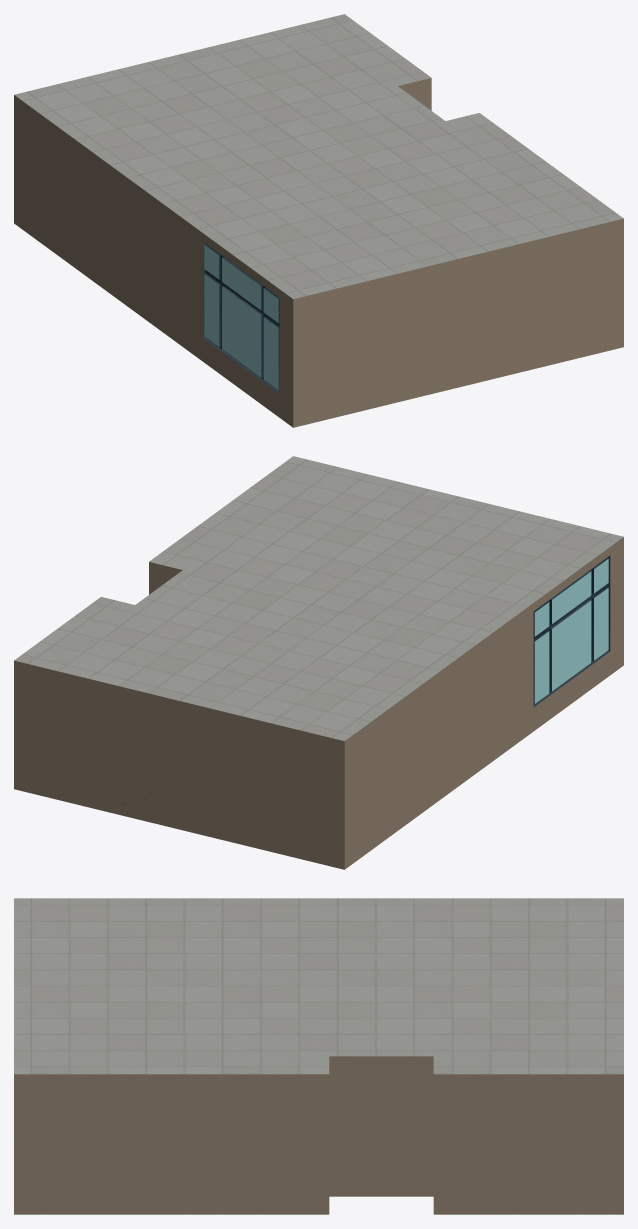
File: Aula mapeada.fbx
The picture shows the model from 3 angles, top to bottom: view 1: azimuth 30°, elevation 25°; view 2: azimuth 150°, elevation 25°; view 3: azimuth 270°, elevation 25°; orthographic projection. The views are drawn at different scales.
Parts seen in each view (by area): view 1: techo, Paredes, ventana; view 2: techo, Paredes, ventana; view 3: techo, Paredes.
Part boxes in pixels (x1,y1,x2,y2): techo: (14,14,623,298); Paredes: (14,78,623,427); ventana: (203,242,279,393); techo: (14,456,623,740); Paredes: (14,537,623,869); ventana: (533,555,610,707); techo: (14,898,623,1074); Paredes: (14,1056,623,1214).
Size of the model in its own units: 1605 by 597 by 2348.
